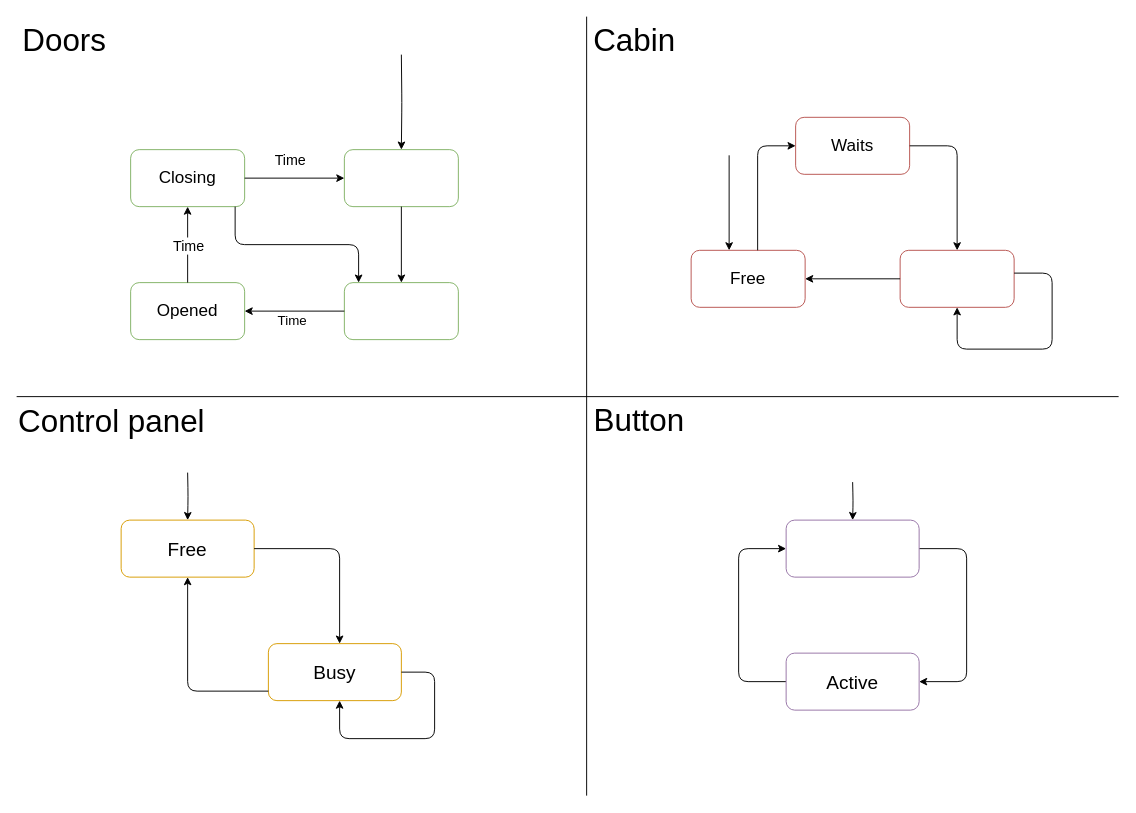
Image size: 1136x813. Some labels were removed from this diagram. Here are the shapes that lost their labels. From the top down, the centre of each, then its label:
At [400,178]: "Closed".
At [956,278]: "Moving".
At [400,311]: "Openning".
At [852,548]: "InActive".
